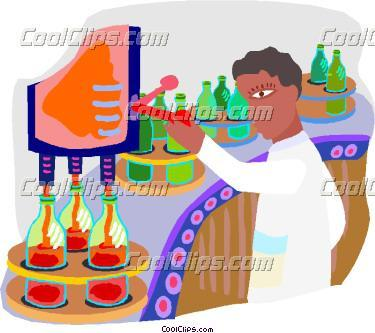bottle: (24, 193, 70, 307), (88, 191, 130, 306), (166, 93, 198, 183), (56, 179, 94, 252), (125, 92, 153, 180), (325, 47, 350, 116), (227, 81, 252, 140), (196, 80, 218, 138), (210, 74, 232, 111), (309, 43, 329, 82)
person: (161, 43, 347, 307)
